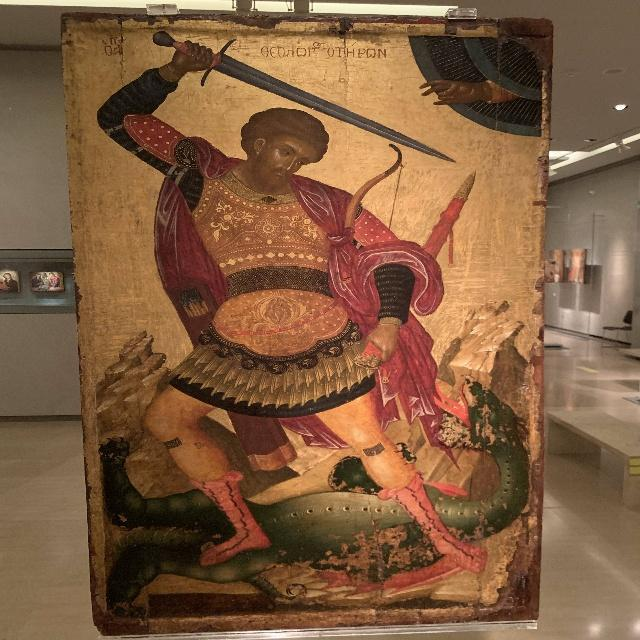armor: (174, 170, 370, 399)
dragon: (109, 376, 534, 579)
hand: (410, 59, 514, 110)
st_george: (85, 33, 522, 606)
sword: (156, 33, 469, 160)
